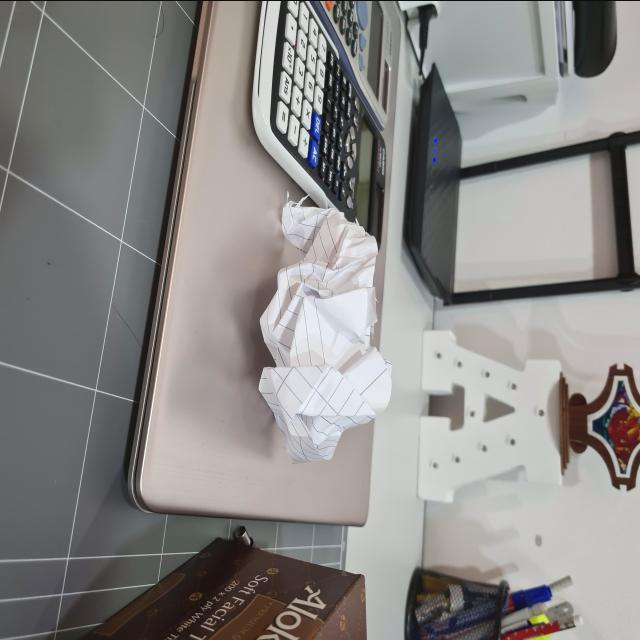Paper: (238, 192, 404, 468)
